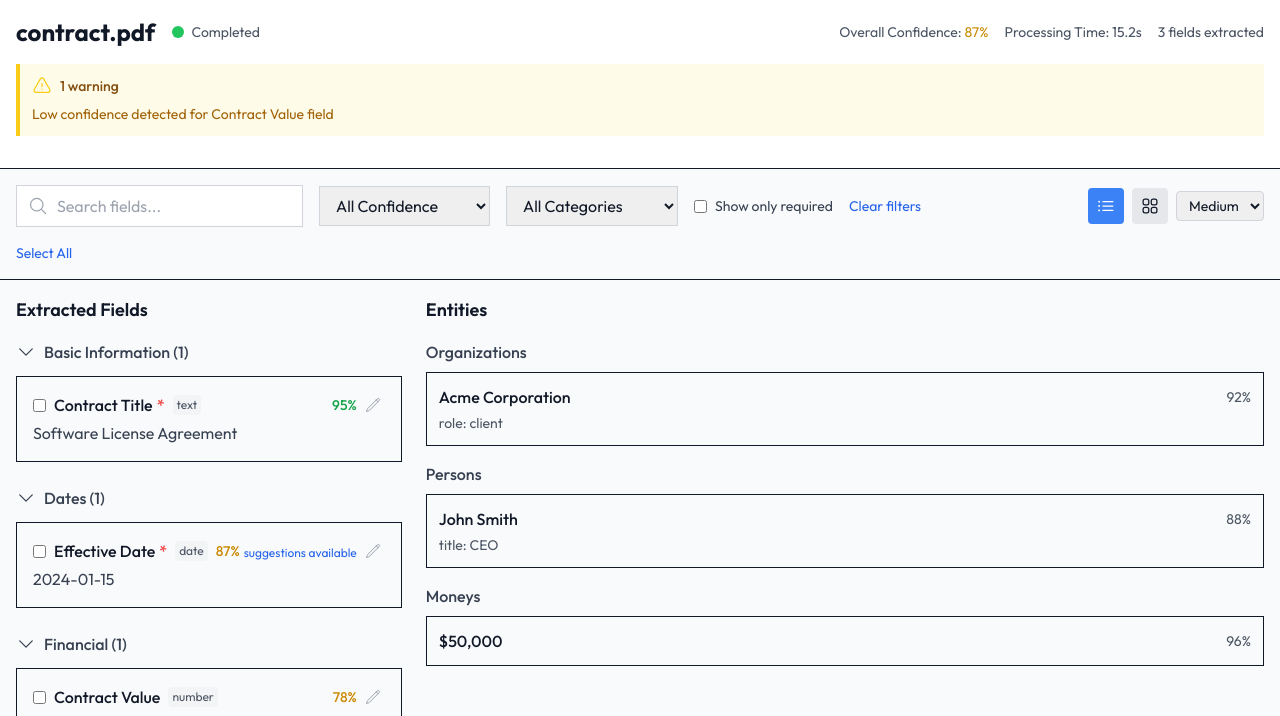
ExtractionResultVisualization › Filtering and Search › should clear all filters
This screenshot has width=1280, height=716.
Select "Financial" in the dropdown named "filter by category" at (592, 206), box [506, 186, 678, 226]
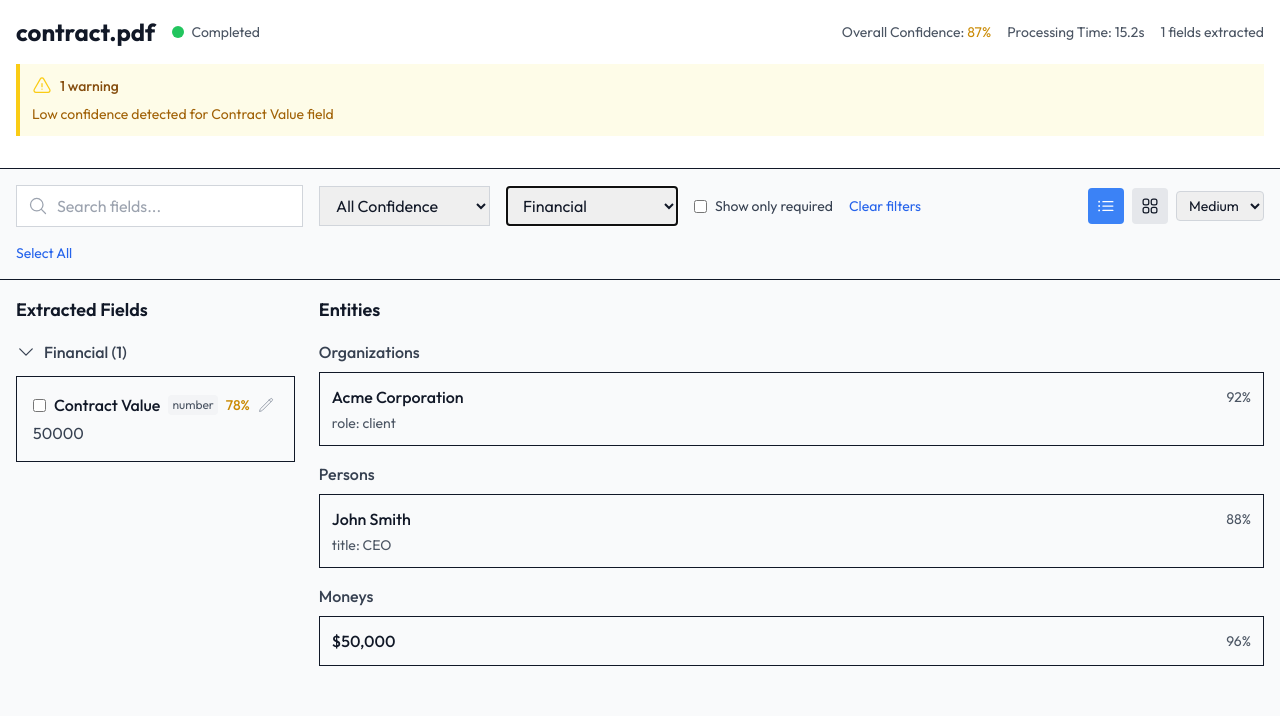
Click the button "Clear filters" at (885, 206), box [849, 196, 921, 216]
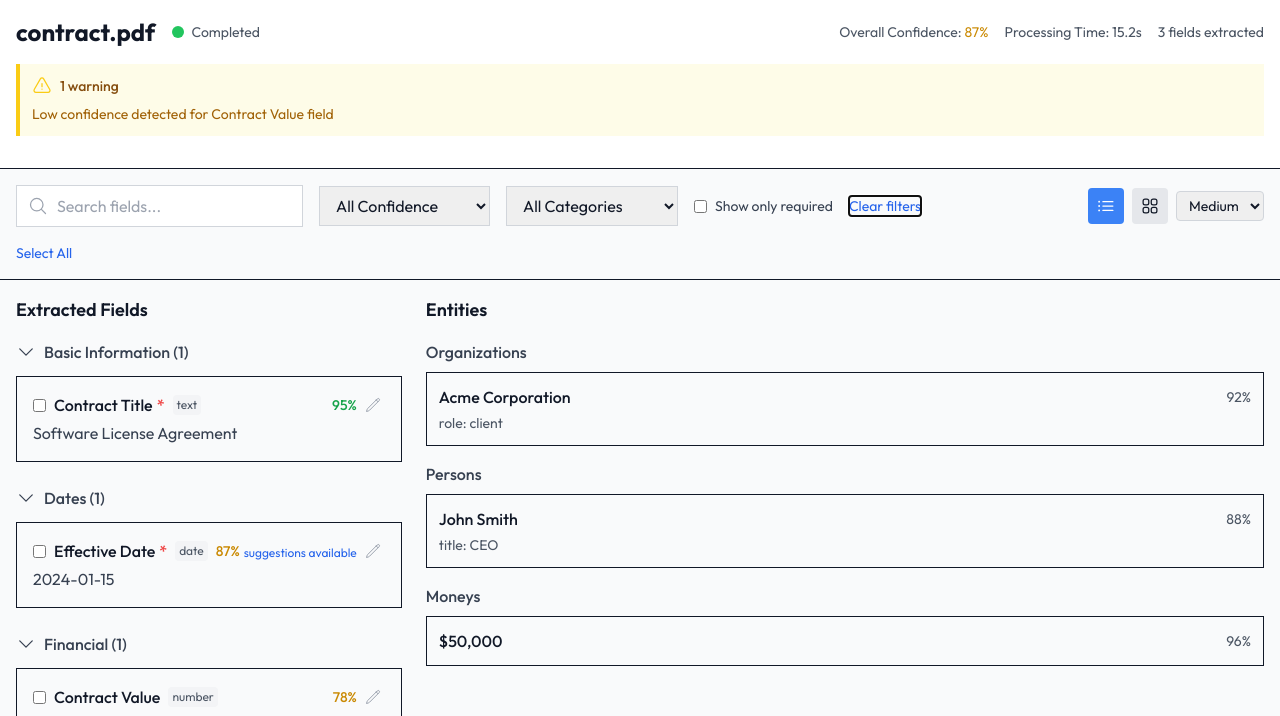
Expected: the text "Contract Value" is shown, [54, 685, 160, 709]
Now the text "Contract Title" is shown, box [54, 395, 153, 415]
